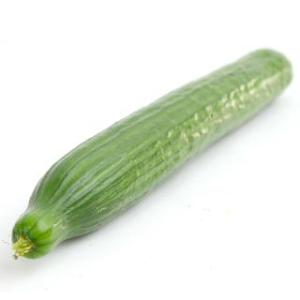cucumber: (9, 44, 295, 260)
